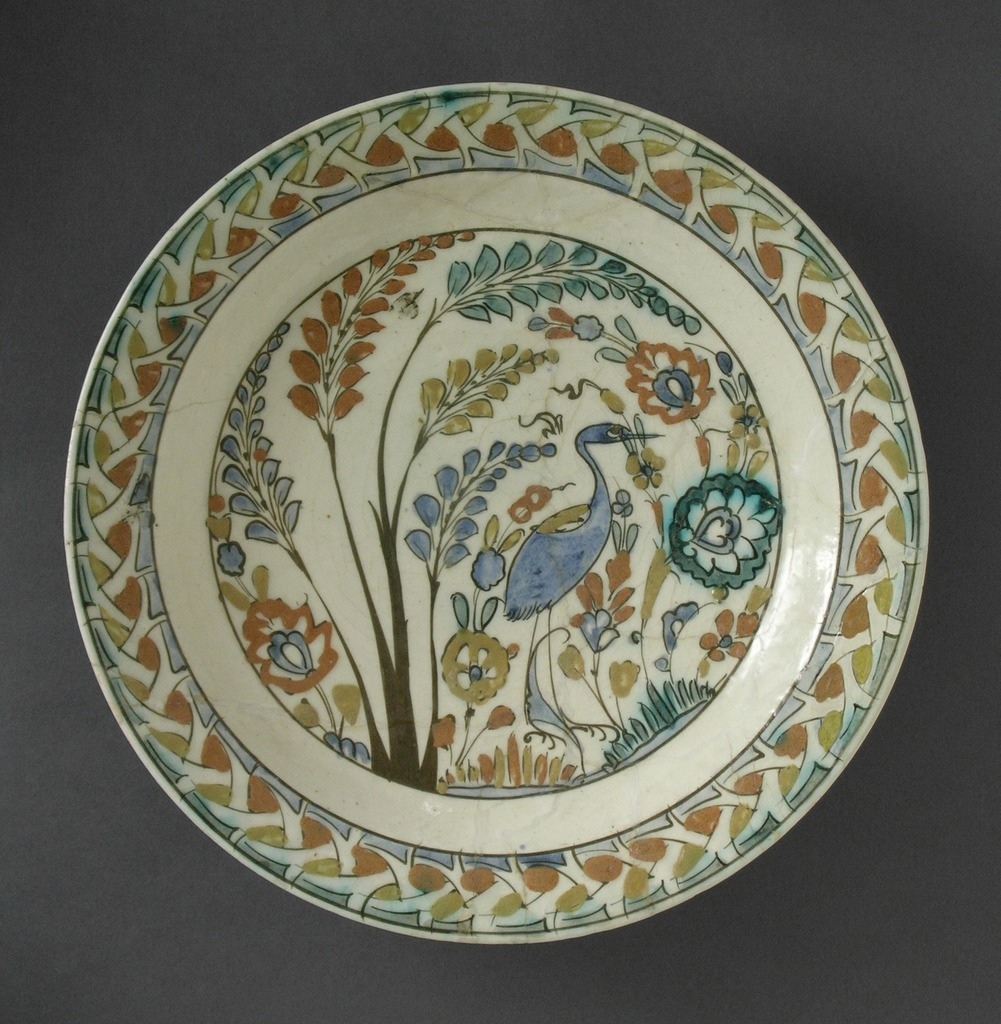plate: (42, 81, 956, 924)
